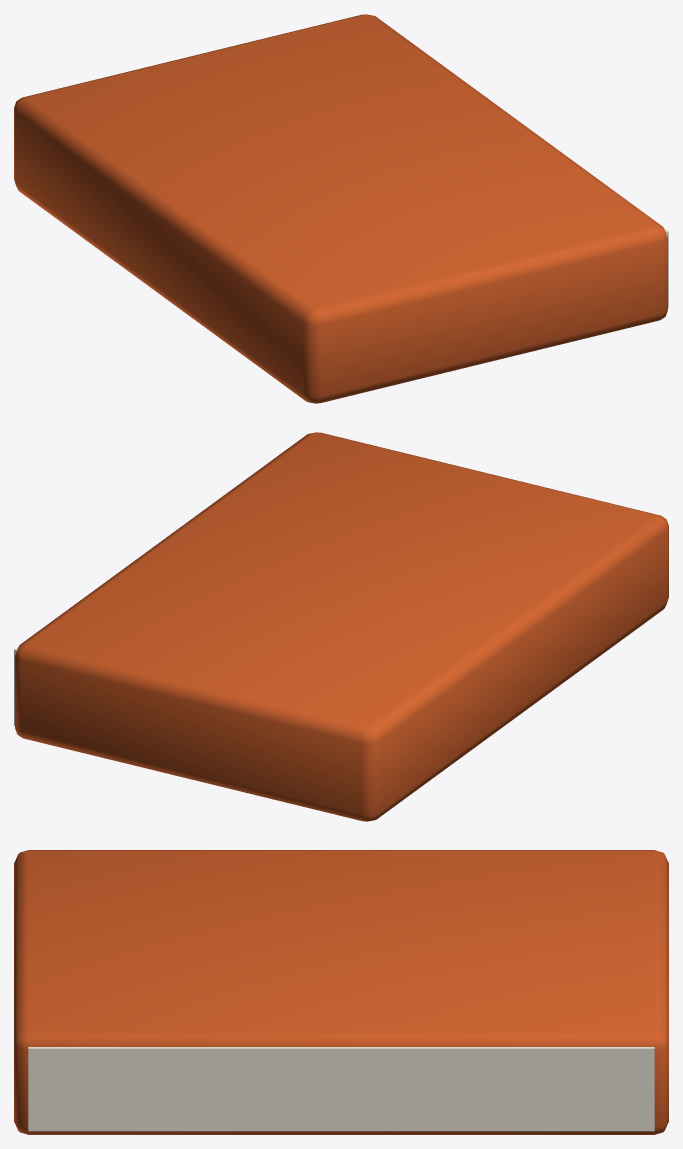
The model's file is book.gltf.
The picture shows the model from 3 angles, top to bottom: view 1: azimuth 30°, elevation 25°; view 2: azimuth 150°, elevation 25°; view 3: azimuth 270°, elevation 25°; orthographic projection. The views are drawn at different scales.
Parts seen in each view (by area): view 1: book_mesh; view 2: book_mesh; view 3: book_mesh.
Boxes of the visible parts, x1,y1,x2,y2 form: book_mesh: (14,14,668,403); book_mesh: (14,432,668,821); book_mesh: (14,850,668,1134).
Size of the model in its own units: 0.161 by 0.04 by 0.23.
